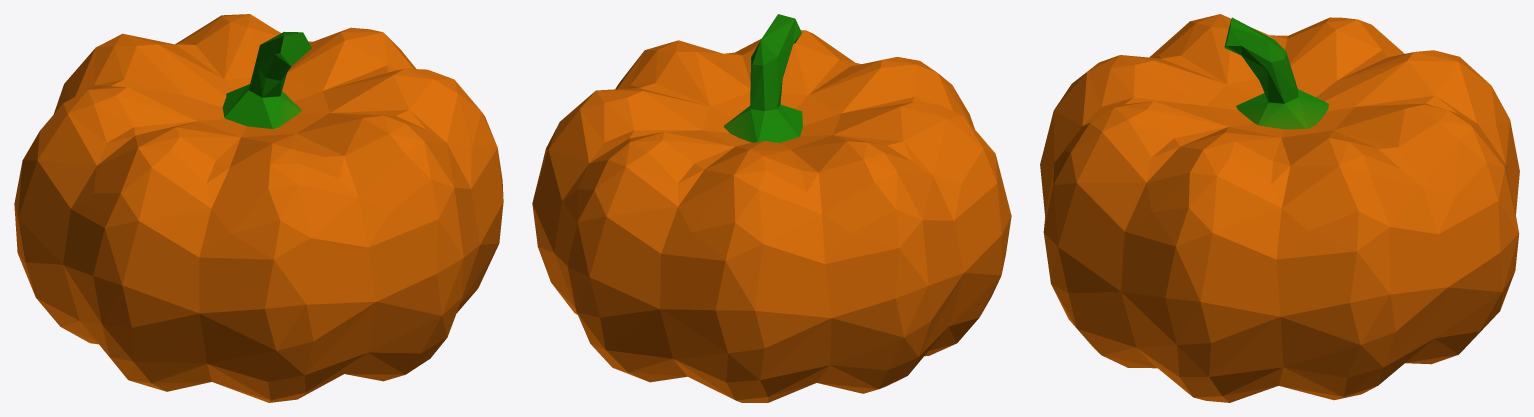
The model's file is pumkin.fbx.
The picture shows the model from 3 angles, left to right: view 1: azimuth 30°, elevation 25°; view 2: azimuth 150°, elevation 25°; view 3: azimuth 270°, elevation 25°; orthographic projection. The views are drawn at different scales.
Parts seen in each view (by area): view 1: pumkin; view 2: pumkin; view 3: pumkin.
Part boxes in pixels (x1=…): pumkin: x1=14, y1=14, x2=503, y2=402; pumkin: x1=532, y1=14, x2=1011, y2=402; pumkin: x1=1040, y1=14, x2=1519, y2=402.
Bounding box in the file's own units: 94.67 × 71.28 × 96.08.
